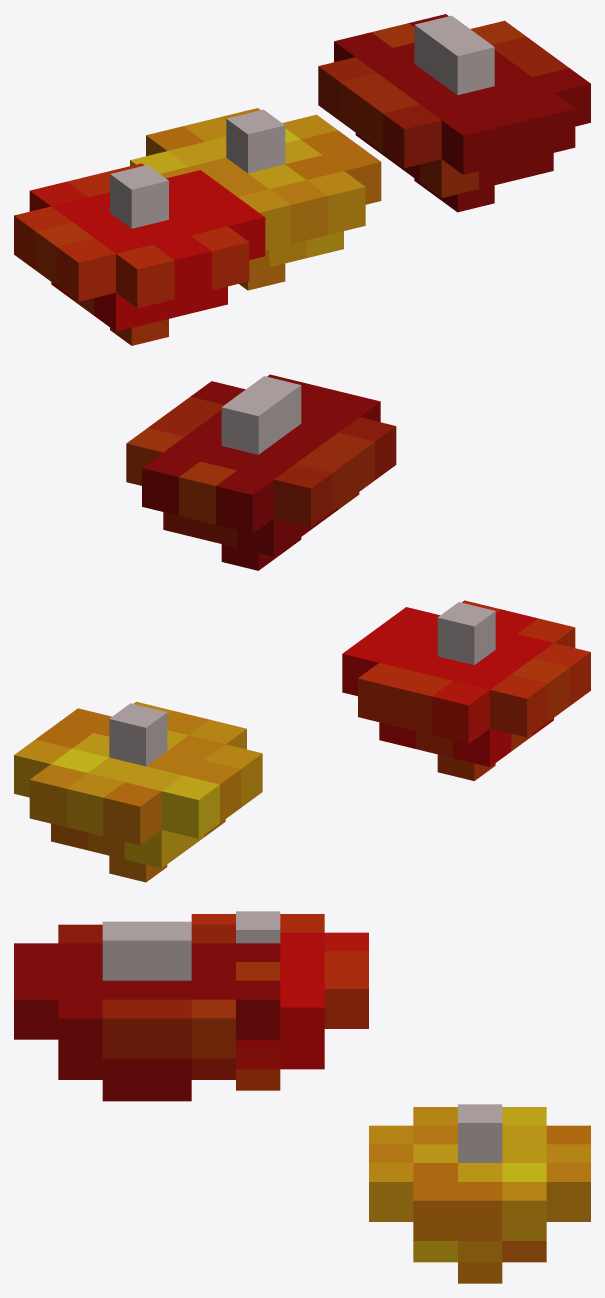
File: 1_4 caju.obj
3 views of the same model, one above another, from view 1: azimuth 30°, elevation 25°; view 2: azimuth 150°, elevation 25°; view 3: azimuth 270°, elevation 25° (orthographic). The views are drawn at different scales.
Bounding box in the file's own units: 1.2 × 0.9 × 1.3.
1 material, 1 textured.
